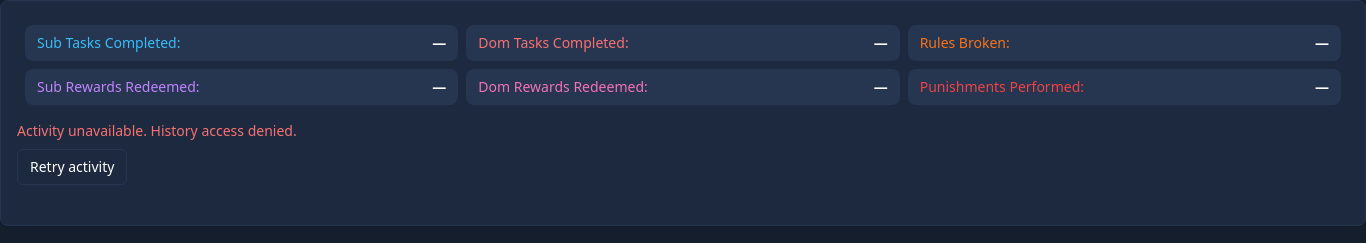
shared Throne query and visible result states › shows denied reads as unavailable, not six zeros, and Retry recovers
Later steps or results of the test are not shown.
Expected: the message "Activity unavailable. History access denied. Retry activity" is shown, [17, 121, 297, 185]
Expected: the message shows "unavailable", [17, 121, 151, 140]
Click the button "Retry activity": (72, 167) [17, 149, 127, 185]
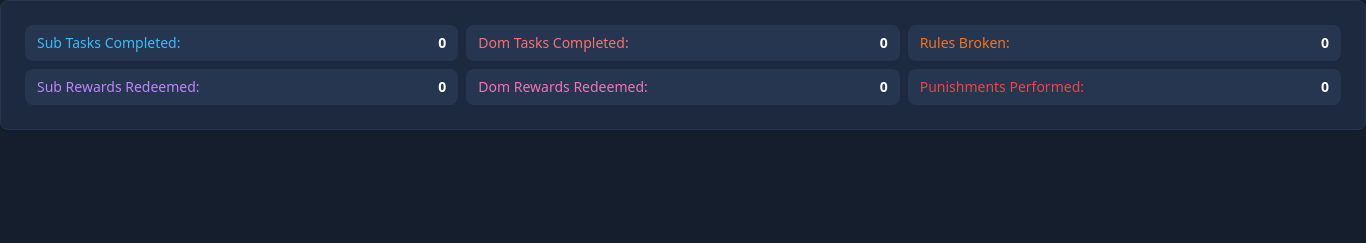
Expected: the text "0" is shown 6 times, [438, 33, 446, 53]; [880, 33, 888, 53]; [1321, 33, 1329, 53]; [438, 77, 446, 97]; [880, 77, 888, 97]; [1321, 77, 1329, 97]
Result: the message "Activity unavailable. History access denied. Retry activity" is gone
